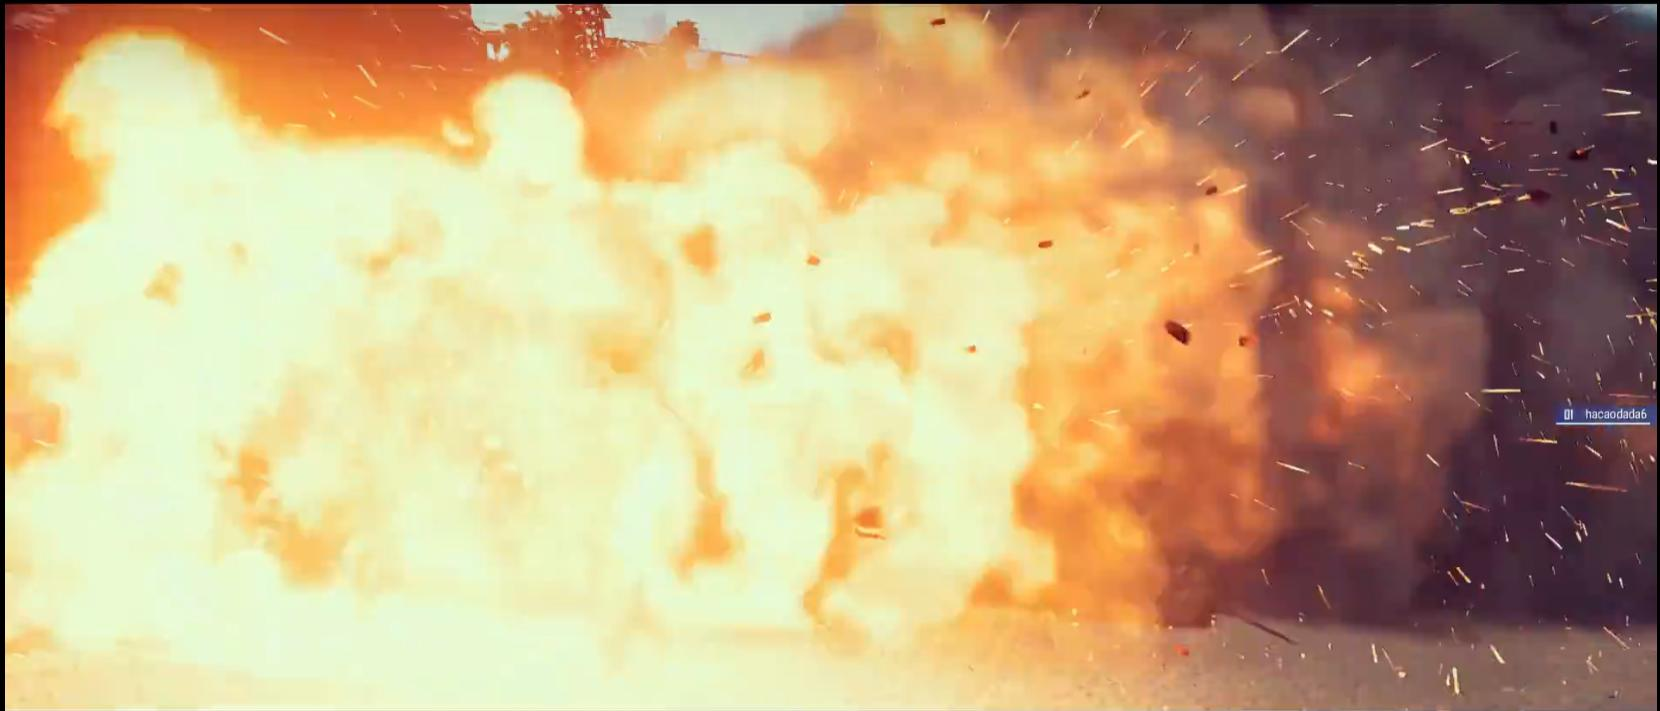fire: (5, 2, 1550, 711)
